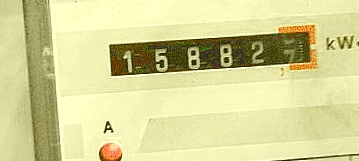1: (121, 44, 135, 74)
2: (247, 38, 266, 65)
5: (152, 44, 170, 75)
7: (281, 45, 295, 63)
8: (184, 43, 201, 72), (217, 40, 234, 69)
screen: (96, 15, 325, 89)
